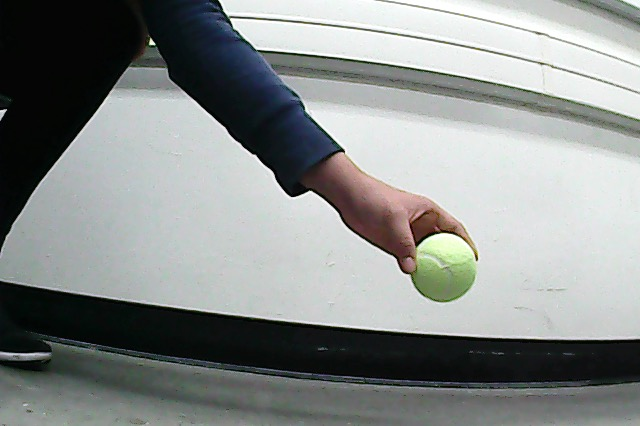ball: (404, 229, 481, 306)
